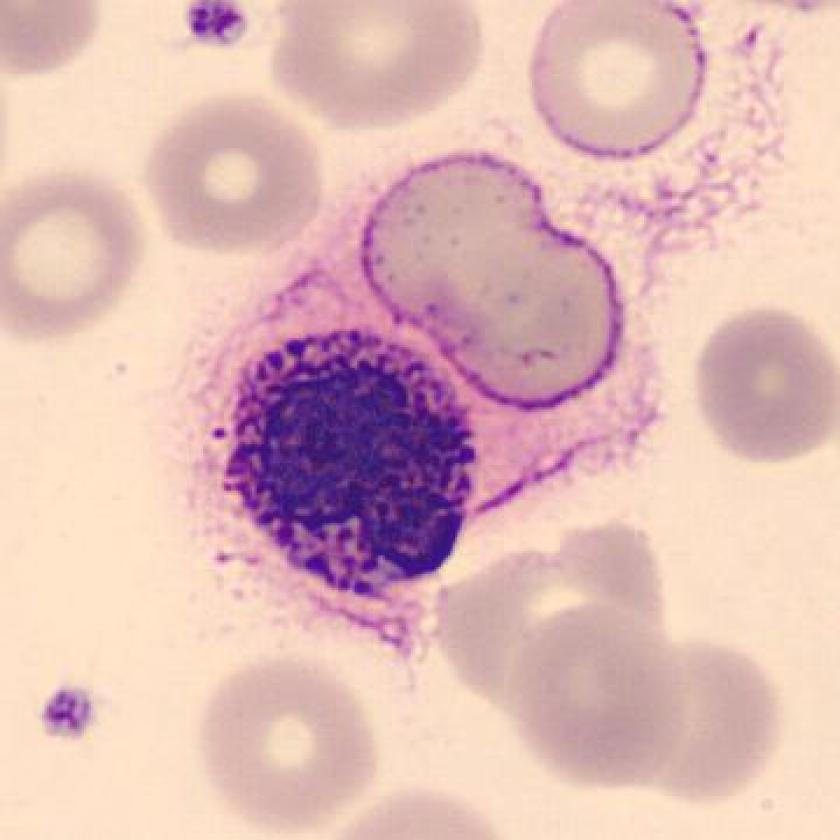basophil: (221, 334, 480, 612)
